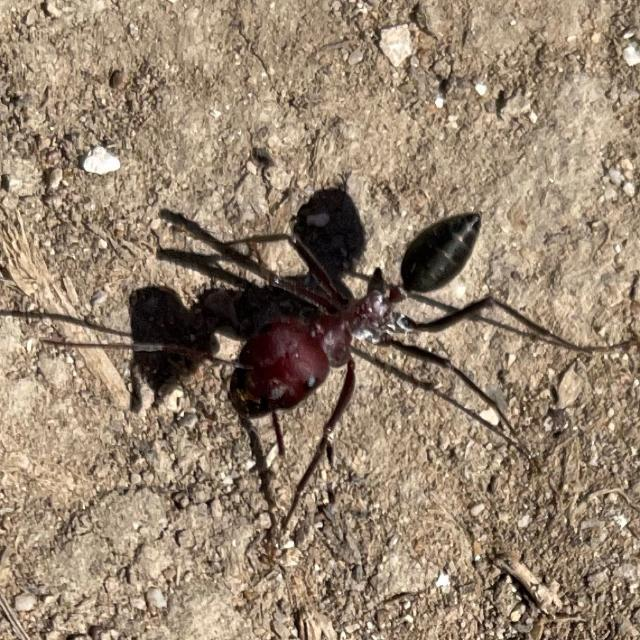Cataglyphis: (216, 178, 520, 448)
